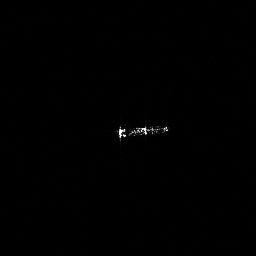ship: (117, 123, 169, 140)
